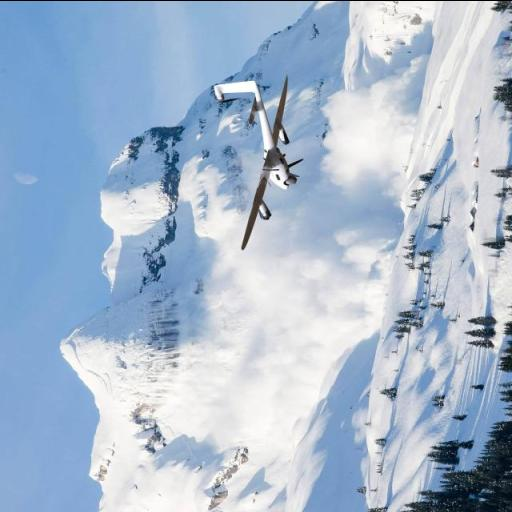uav: (207, 66, 317, 262)
